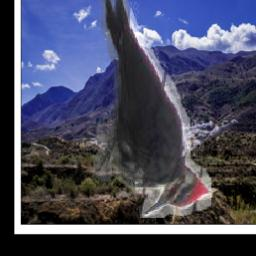Woodpecker: (94, 0, 212, 218)
